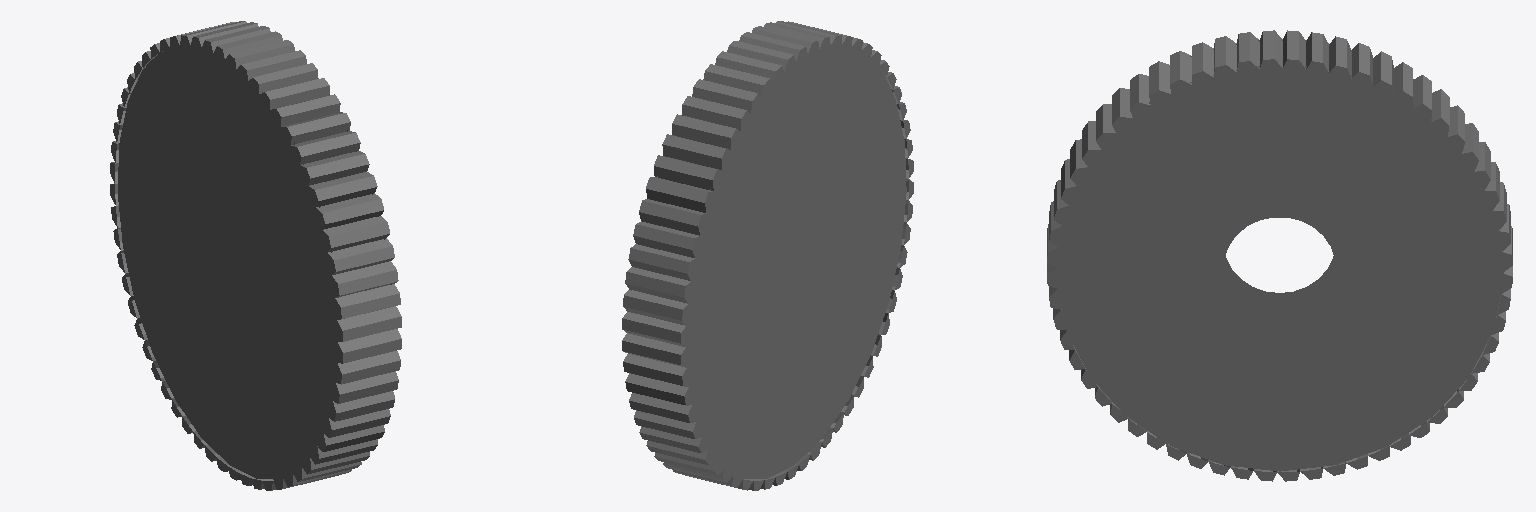
The model's file is grinder.obj.
3 views of the same model, side by side, from view 1: azimuth 30°, elevation 25°; view 2: azimuth 150°, elevation 25°; view 3: azimuth 270°, elevation 25° (orthographic).
Size of the model in its own units: 1.04 by 7.07 by 7.07.